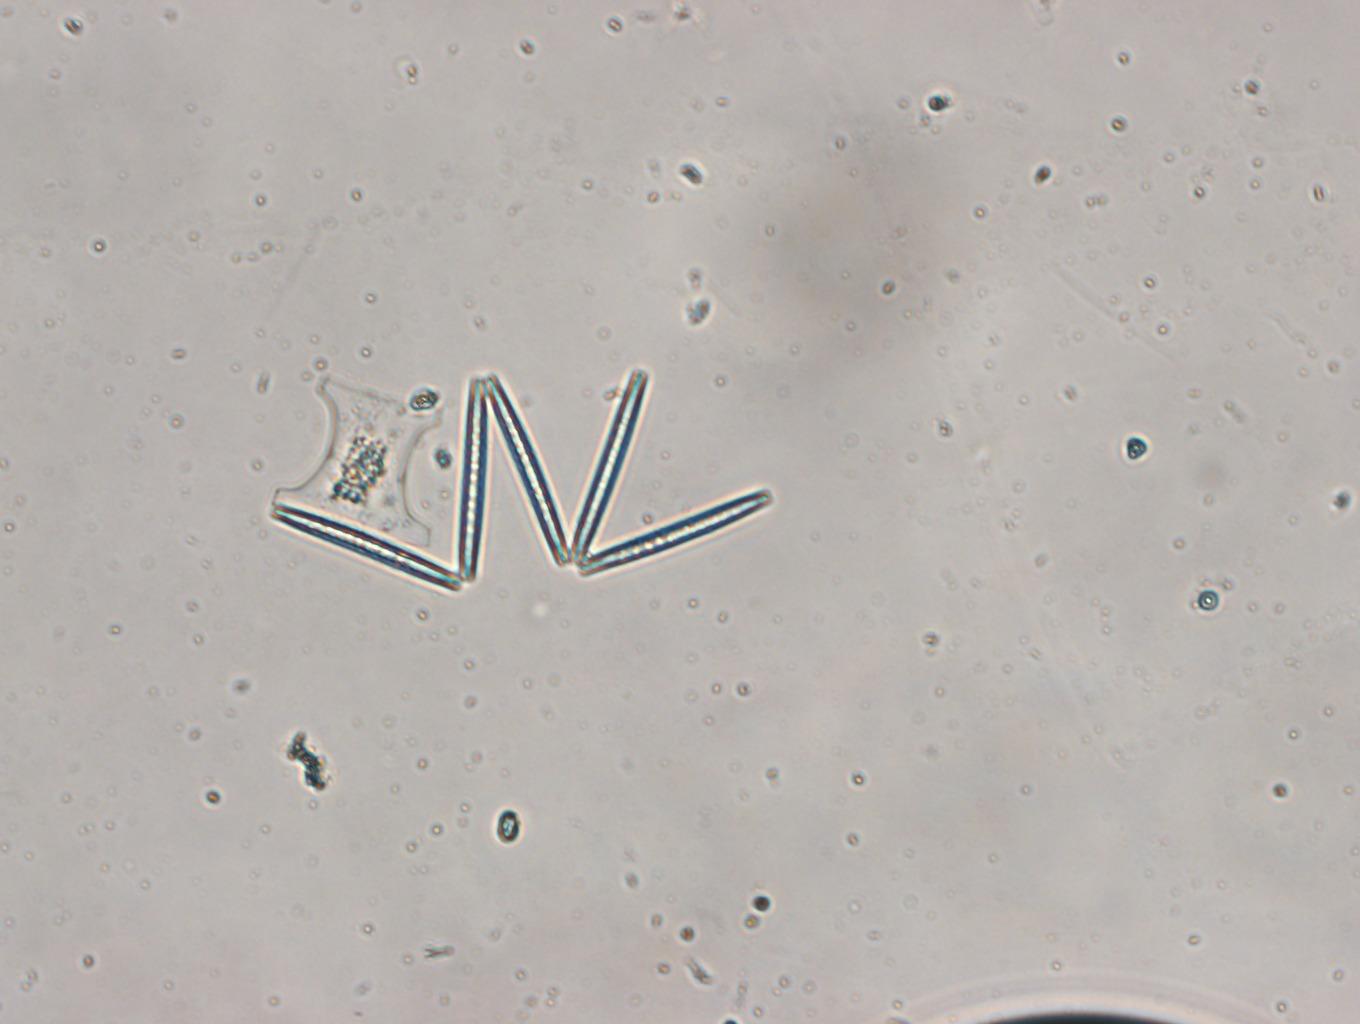eucampia: (270, 376, 441, 549)
thalassionema nitzschioides: (269, 366, 774, 594)
